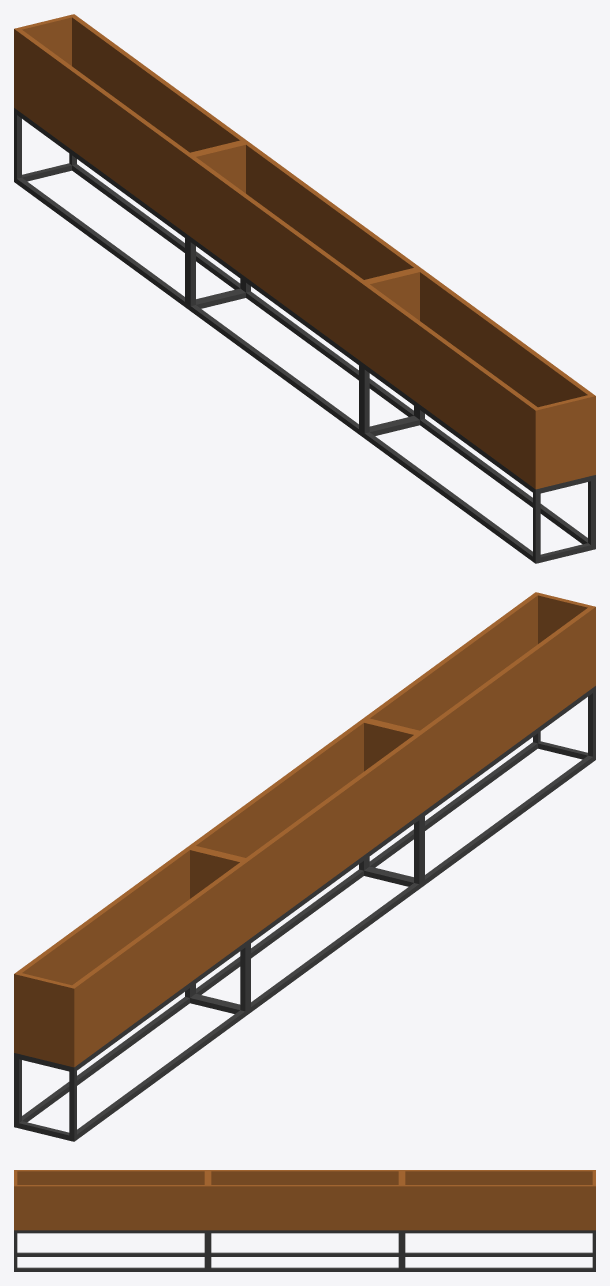
The model's file is BP_outdoor_planters.FBX.
3 renders of one model, top to bottom at view 1: azimuth 30°, elevation 25°; view 2: azimuth 150°, elevation 25°; view 3: azimuth 270°, elevation 25°, orthographic. The views are drawn at different scales.
Visible parts, largest first — view 1: Group2303, Group2306, Group2309, Group2304, Group2307, Group2310, Group2305, Group2311, Group2308; view 2: Group2309, Group2306, Group2303, Group2310, Group2307, Group2304, Group2311, Group2305, Group2308; view 3: Group2309, Group2306, Group2303, Group2310, Group2307, Group2304, Group2311, Group2305, Group2308.
Part boxes in pixels (x1,y1,x2,y2): Group2303: (362, 269, 595, 489); Group2306: (188, 141, 421, 361); Group2309: (14, 14, 247, 234); Group2304: (362, 418, 595, 563); Group2307: (188, 290, 416, 436); Group2310: (14, 163, 242, 308); Group2305: (362, 362, 595, 494); Group2311: (14, 108, 187, 239); Group2308: (188, 235, 361, 367); Group2309: (14, 847, 247, 1067); Group2306: (188, 719, 421, 939); Group2303: (362, 592, 595, 812); Group2310: (14, 996, 247, 1141); Group2307: (193, 868, 421, 1014); Group2304: (367, 741, 595, 886); Group2311: (14, 940, 247, 1072); Group2305: (422, 686, 595, 817); Group2308: (248, 813, 421, 945); Group2309: (402, 1170, 595, 1230); Group2306: (208, 1170, 401, 1230); Group2303: (14, 1170, 207, 1230); Group2310: (402, 1252, 595, 1271); Group2307: (208, 1252, 401, 1271); Group2304: (14, 1252, 207, 1271); Group2311: (402, 1230, 595, 1233); Group2305: (14, 1230, 207, 1233); Group2308: (208, 1230, 401, 1233).
Bounding box in the file's own units: 12 × 29.16 × 180.
